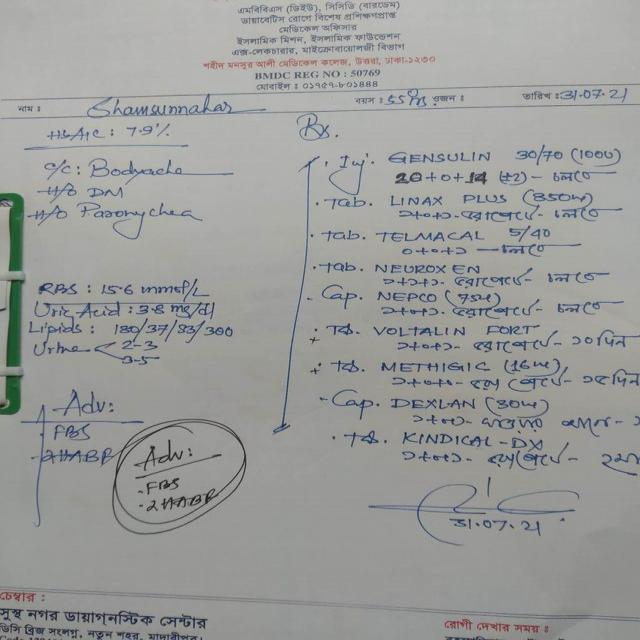Dexlan: (384, 391, 483, 413)
Gensulin: (380, 146, 499, 170)
Kindical DX: (395, 432, 545, 452)
Linax Plus: (383, 191, 512, 209)
Methigic: (382, 353, 493, 378)
Nepco: (375, 287, 441, 305)
Neuroxen: (372, 260, 487, 276)
Telmacal: (375, 227, 493, 246)
Voltalin: (369, 320, 470, 340)
